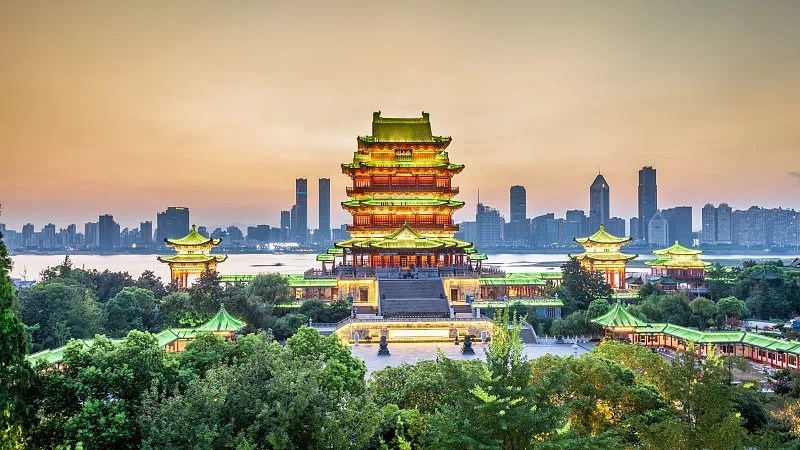Teng: (318, 110, 488, 268)
